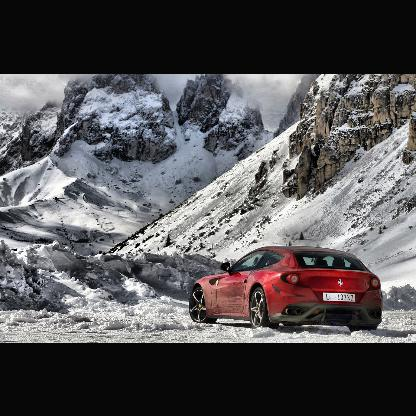Ferrari FF Coupe 2012: (191, 244, 384, 328)
